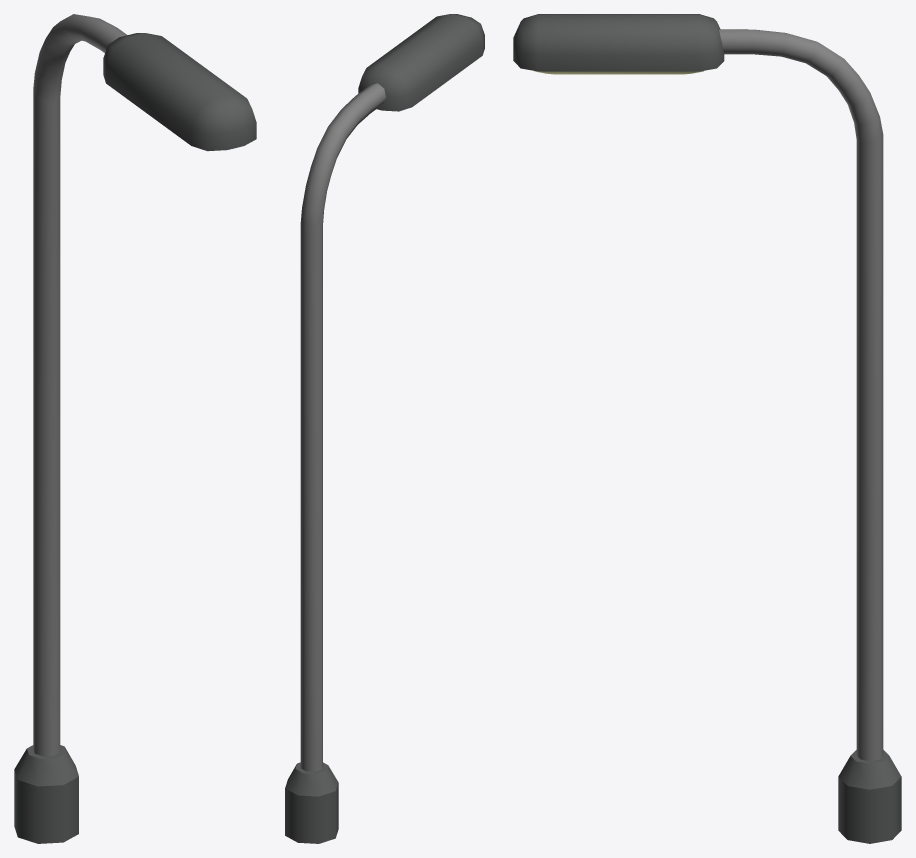
Rendered from Lighting.fbx.
The picture shows the model from 3 angles, left to right: view 1: azimuth 30°, elevation 25°; view 2: azimuth 150°, elevation 25°; view 3: azimuth 270°, elevation 25°; orthographic projection. The views are drawn at different scales.
Parts seen in each view (by area): view 1: Lighting; view 2: Lighting; view 3: Lighting.
Part boxes in pixels (x1=…): Lighting: x1=14, y1=14, x2=256, y2=843; Lighting: x1=285, y1=14, x2=484, y2=843; Lighting: x1=513, y1=14, x2=901, y2=843.
Bounding box in the file's own units: 0.3051 × 4.02 × 1.74.
